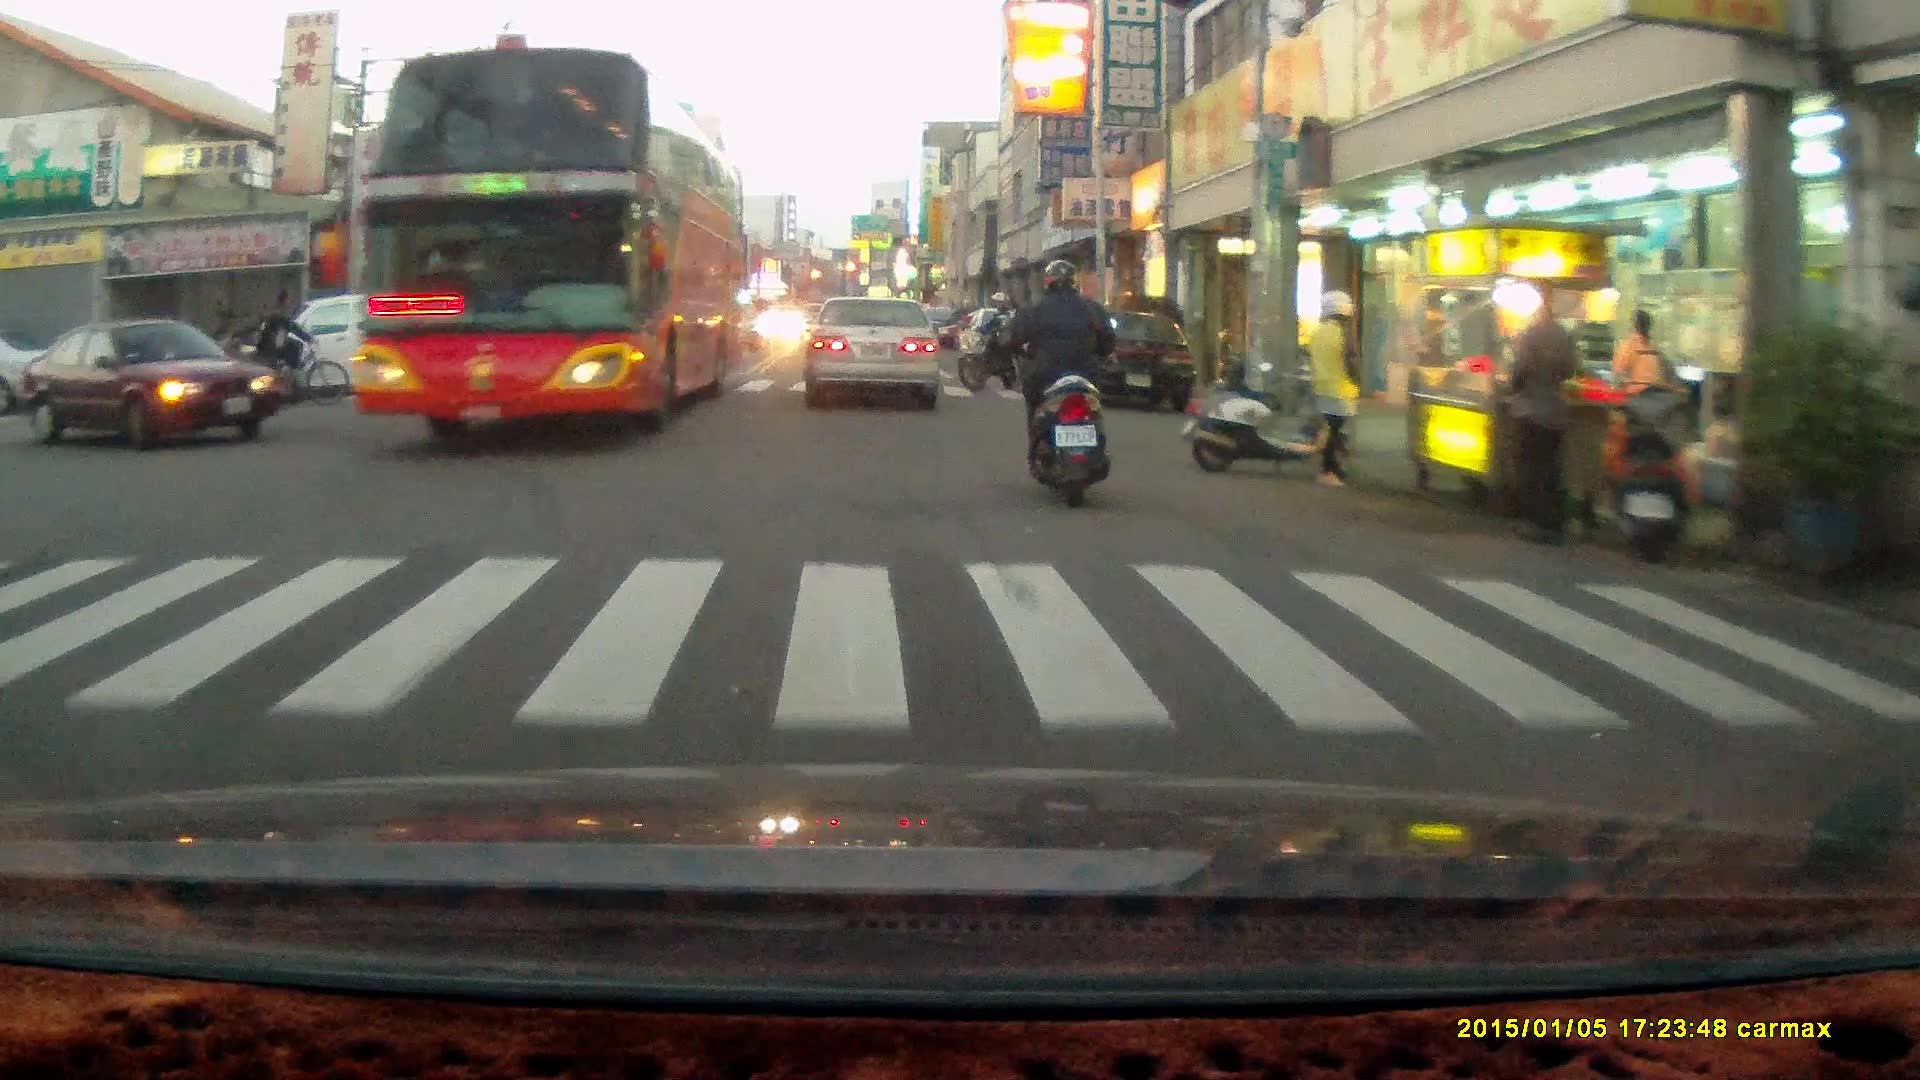pedestrian: (1507, 278, 1579, 548), (1305, 288, 1365, 486), (1611, 308, 1671, 490)
rider: (1001, 249, 1117, 499), (233, 289, 347, 408), (956, 286, 1025, 391)
vehicle: (347, 51, 747, 440), (20, 312, 276, 449), (276, 295, 438, 400), (803, 296, 945, 407), (1051, 304, 1196, 414)
